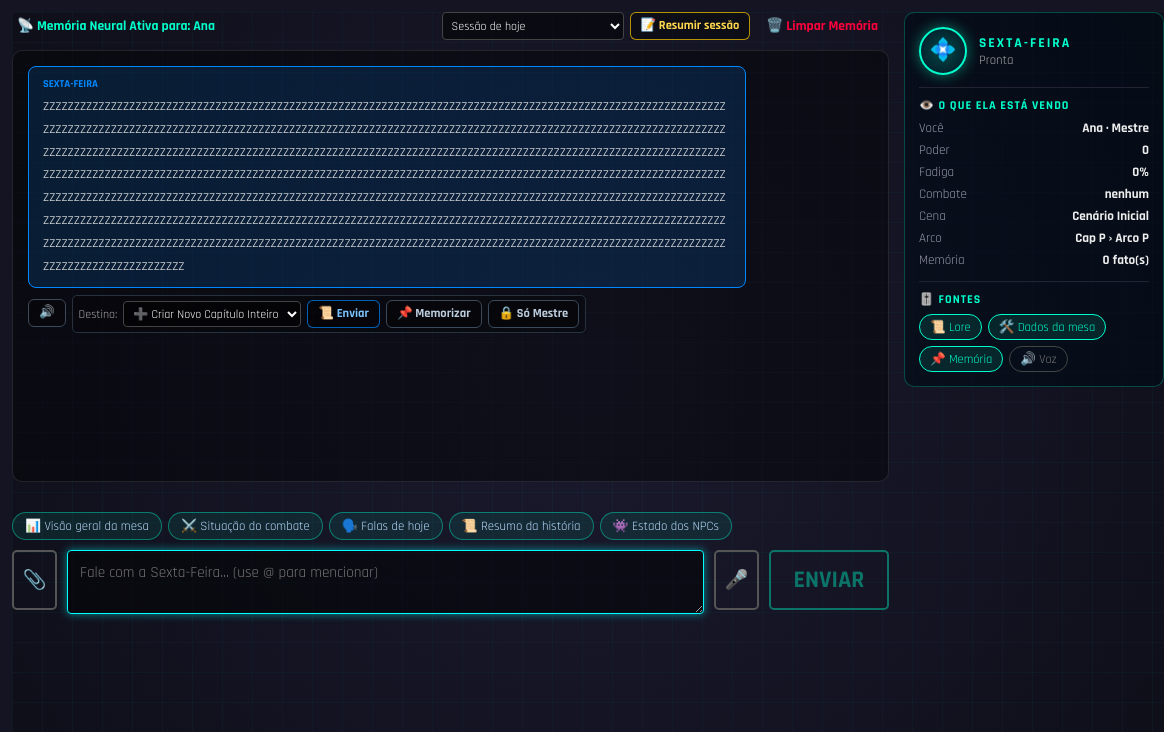
it: AcoesMensagemIA (via AIChat) › Mestre: "Memorizar" grava (cap 500) com soMestre=false e mostra confirmacao
Click the button "📌 Memorizar" at (434, 314), box [386,300,482,328]
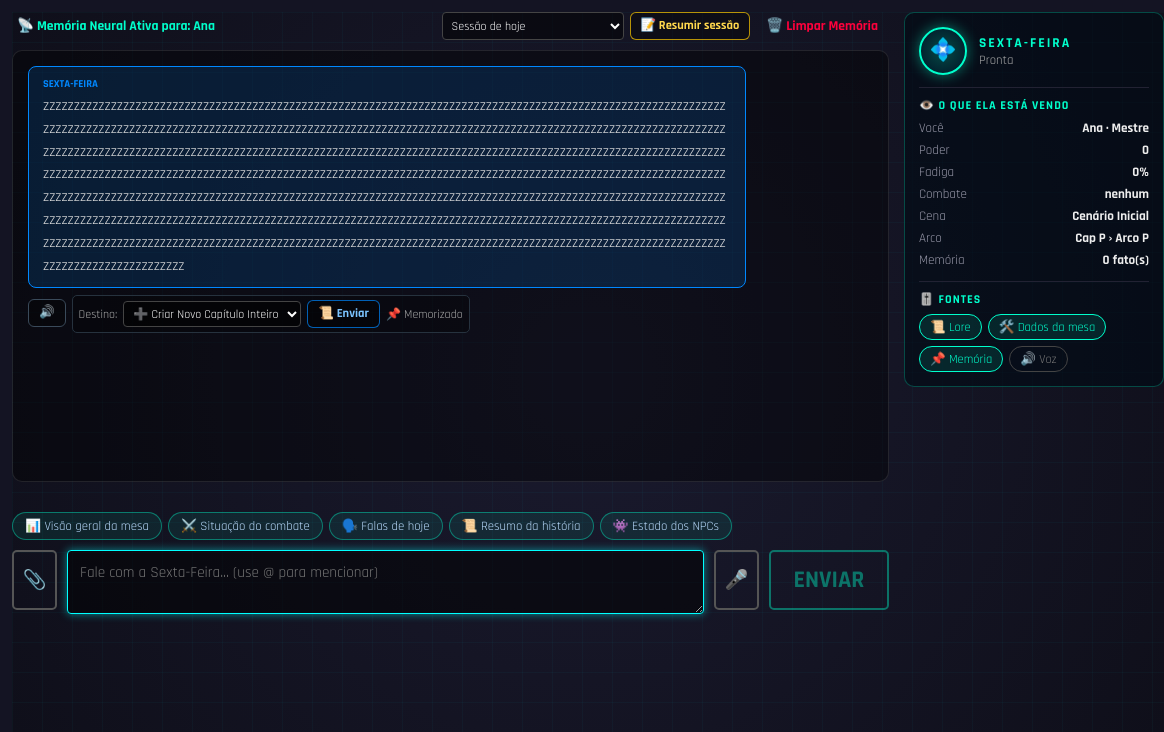
Check: the text "📌 Memorizado" is shown, box [386,307,463,322]
Check: the button "Só Mestre" is gone
